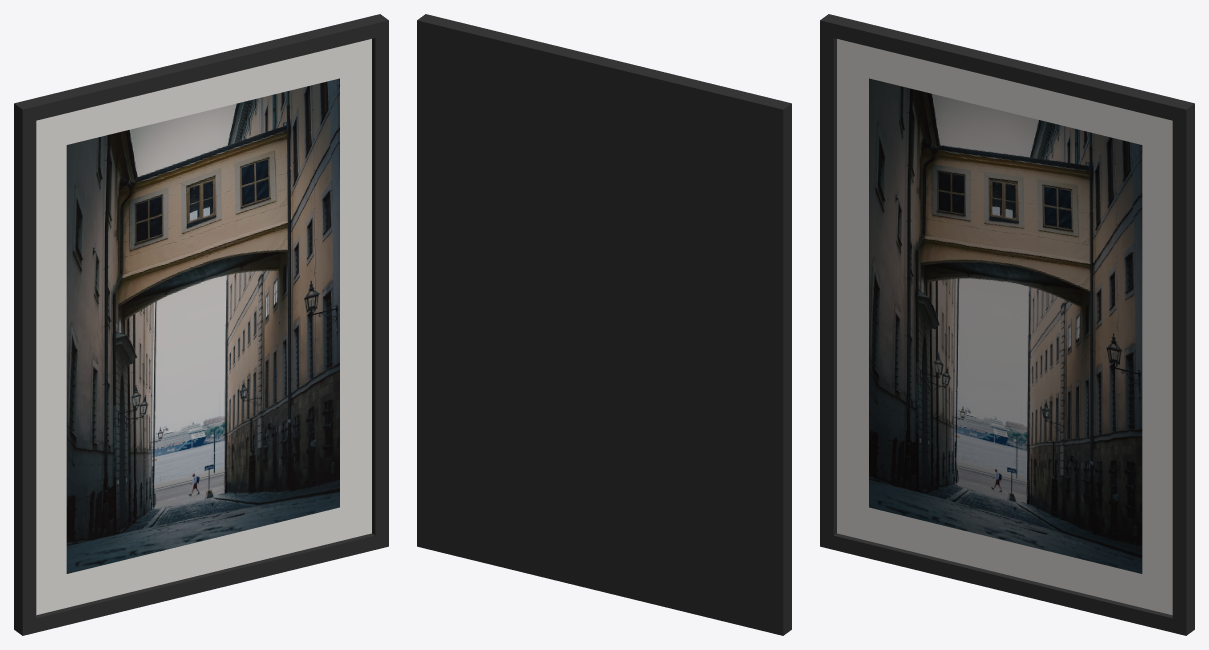
File: valvet-60.gltf
3 views of the same model, side by side, from view 1: azimuth 30°, elevation 25°; view 2: azimuth 150°, elevation 25°; view 3: azimuth 330°, elevation 25° (orthographic).
Visible parts, largest first — view 1: tavla; view 2: tavla; view 3: tavla.
Boxes of the visible parts, x1=… form: tavla: x1=14, y1=14, x2=388, y2=635; tavla: x1=417, y1=14, x2=791, y2=635; tavla: x1=820, y1=14, x2=1194, y2=635.
Size of the model in its own units: 0.536 by 0.736 by 0.022.
3 materials, 1 textured.
